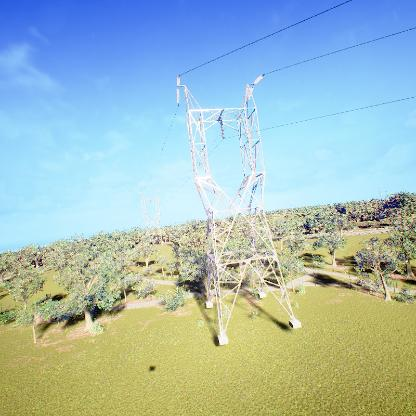tower: (176, 74, 301, 349)
